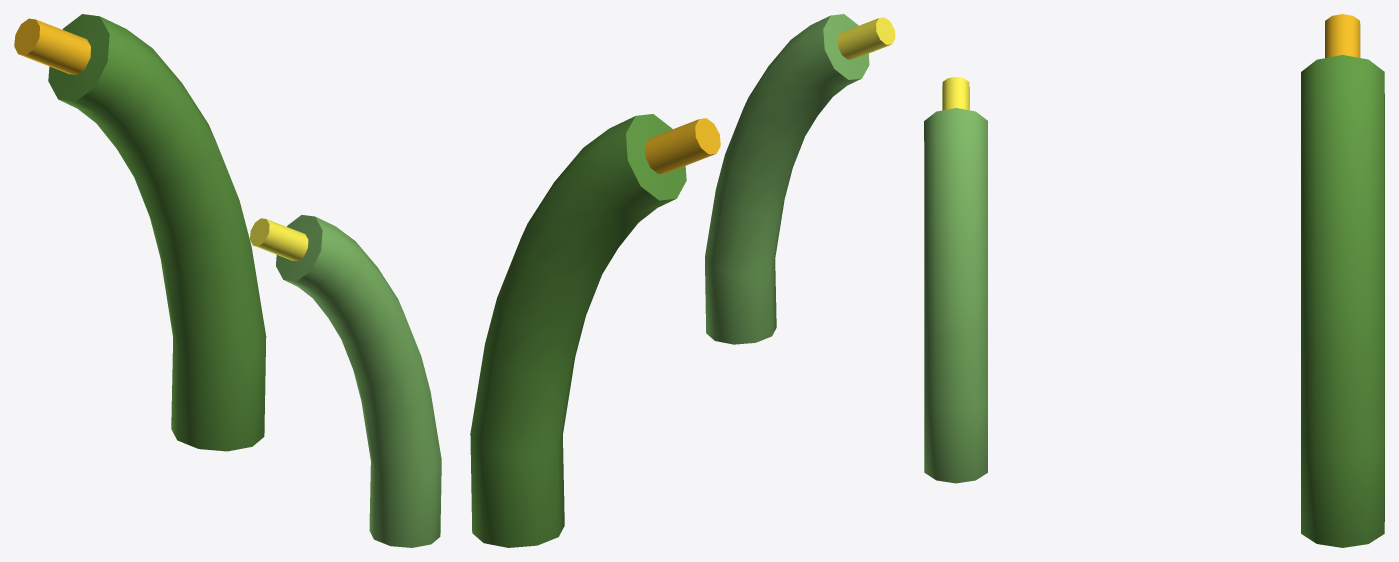
Rendered from thickness_wire.fbx.
3 renders of one model, left to right at view 1: azimuth 30°, elevation 25°; view 2: azimuth 150°, elevation 25°; view 3: azimuth 270°, elevation 25°, orthographic. The views are drawn at different scales.
Visible parts, largest first — view 1: thickness_wire; view 2: thickness_wire; view 3: thickness_wire.
Part boxes in pixels (x1,y1,x2,y2): thickness_wire: [14, 14, 441, 547]; thickness_wire: [470, 14, 895, 547]; thickness_wire: [924, 14, 1384, 547].
Size of the model in its own units: 34.81 by 63.24 by 61.12.
Materials: 1 (1 with a texture image).
